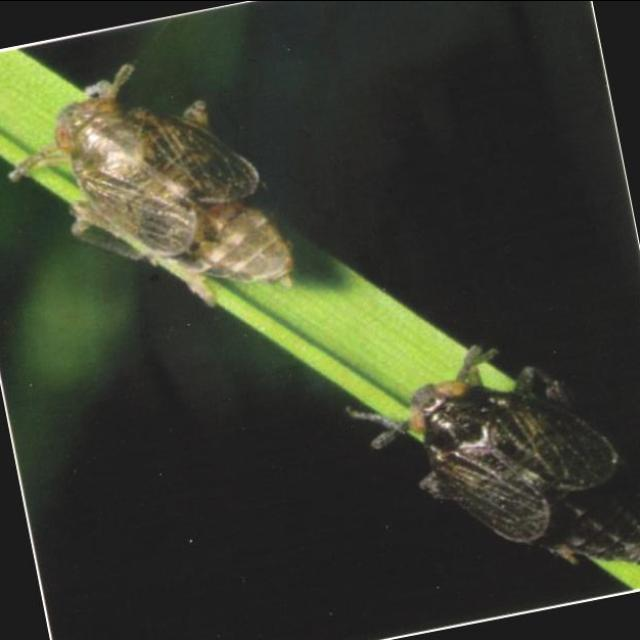ricebug: (10, 64, 291, 305), (408, 358, 640, 564)
